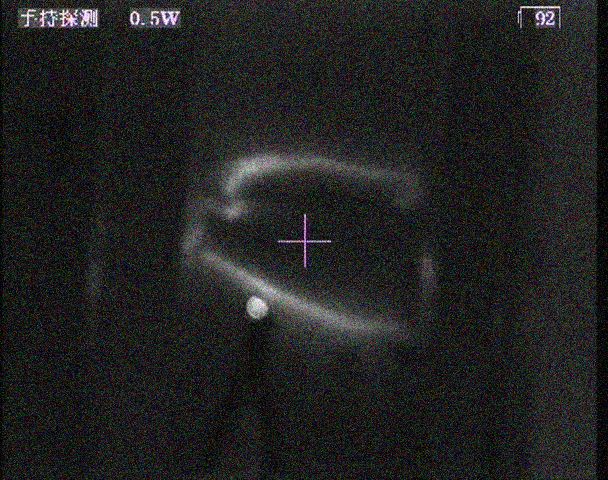my: (244, 294, 271, 321)
